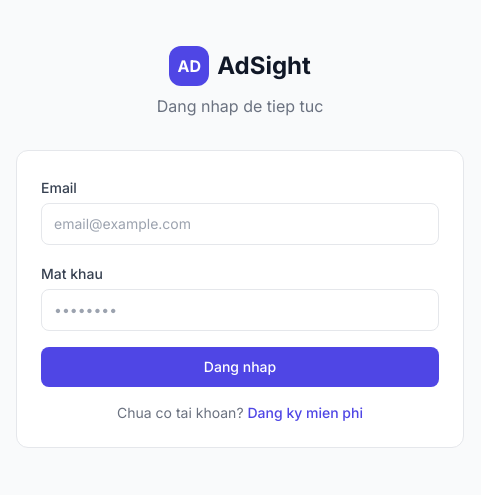
Test: Login › shows error on empty submit (HTML validation prevents, but API error shows)
Step 1. Type "bad@test.com" into the field with placeholder "email@example.com" → (240, 224), box [41, 203, 439, 245]
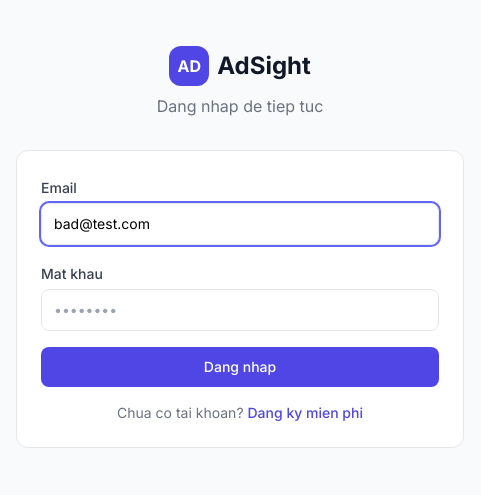
Step 2. Type "wrong" into the password field with placeholder "••••••••" → (240, 310), box [41, 289, 439, 331]
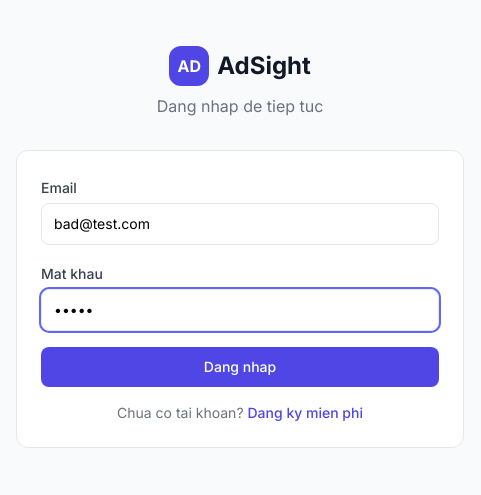
Step 3. Click the button "Dang nhap" → (240, 367), box [41, 347, 439, 387]
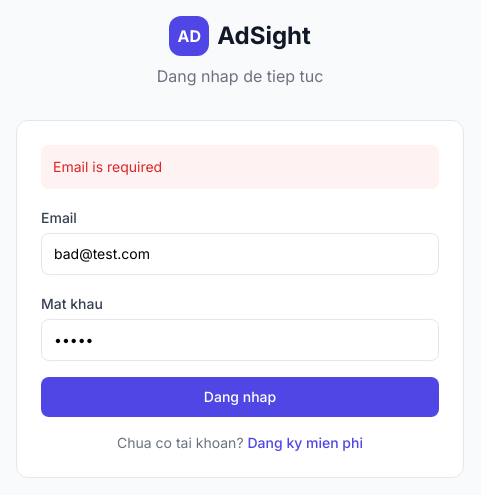
Check: the text "Email is required" is shown, box [41, 145, 439, 189]
